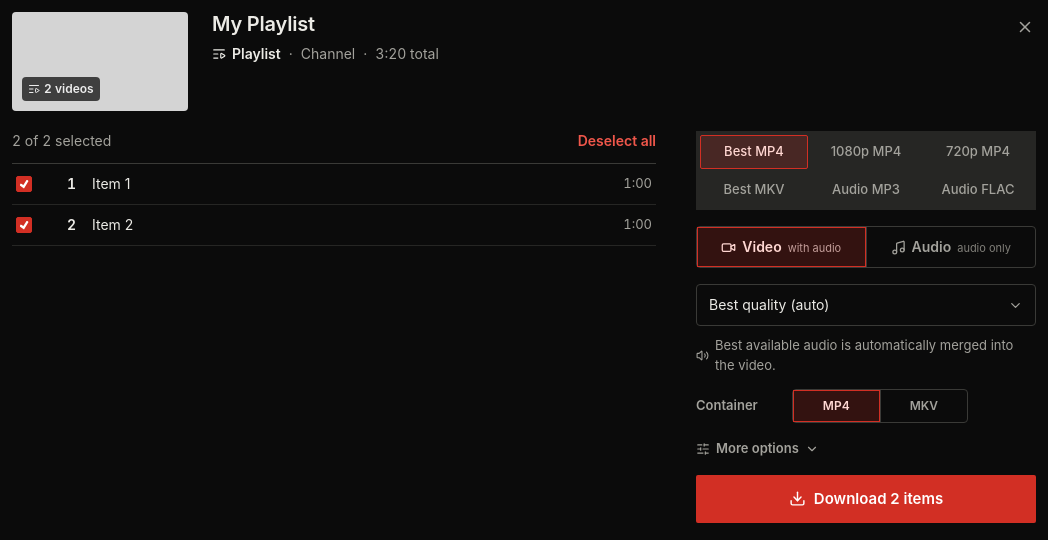
Scenario: MediaCard › deselects and reselects all playlist items
What coordinates should you click on to do the following:
click the button "Deselect all"
I would click on:
 (617, 141)
Its box is [578,131,656,151].
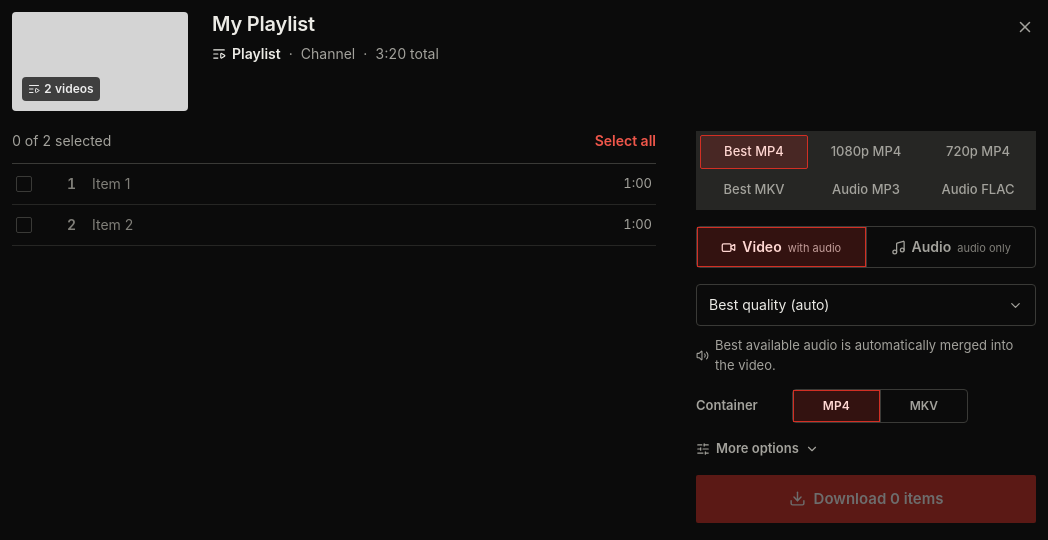
Expected: the text "0 of 2 selected" is shown, [12,131,111,151]
What coordinates should you click on to do the following:
click the button "Select all"
I would click on:
 (625, 141)
Its box is [595,131,656,151].
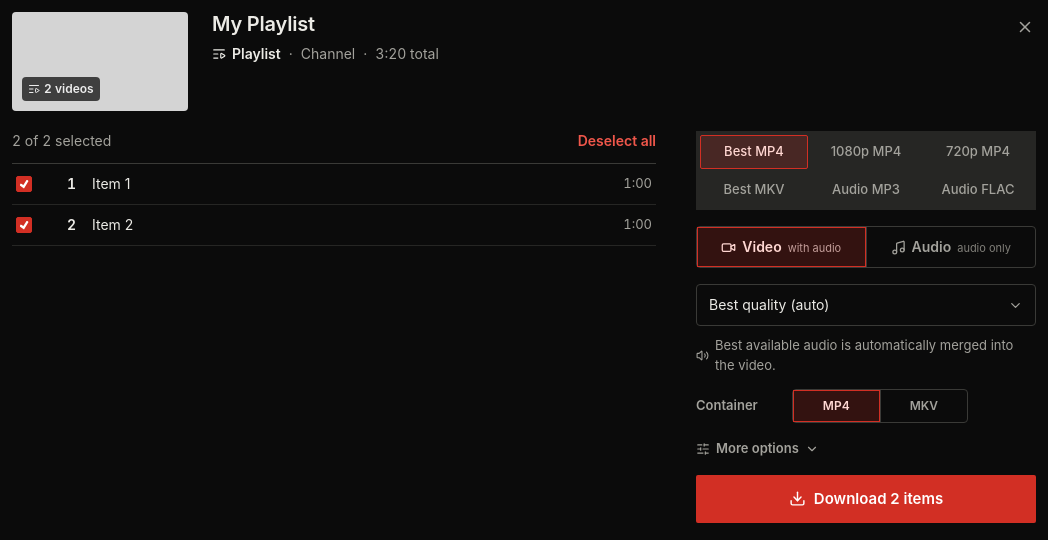
Expected: the text "2 of 2 selected" is shown, [12,131,111,151]
